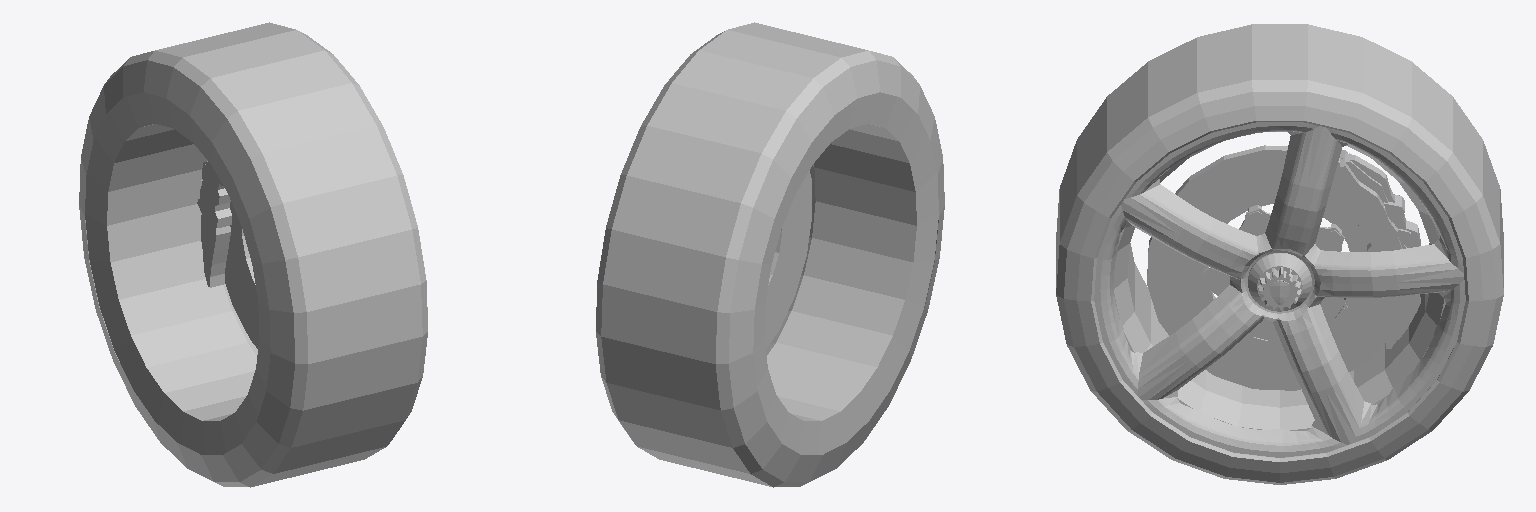
File: Car_Wheel_R.obj
The picture shows the model from 3 angles: view 1: azimuth 30°, elevation 25°; view 2: azimuth 150°, elevation 25°; view 3: azimuth 270°, elevation 25°; orthographic projection.
Visible parts, largest first — view 1: FL_Koenisegg_one.436; view 2: FL_Koenisegg_one.436; view 3: FL_Koenisegg_one.436.
Part boxes in pixels (left/top/right/bottom): FL_Koenisegg_one.436: left=79, top=22, right=427, bottom=487; FL_Koenisegg_one.436: left=596, top=22, right=944, bottom=487; FL_Koenisegg_one.436: left=1056, top=24, right=1503, bottom=484.
Bounding box in the file's own units: 2.24 × 5.54 × 5.55.